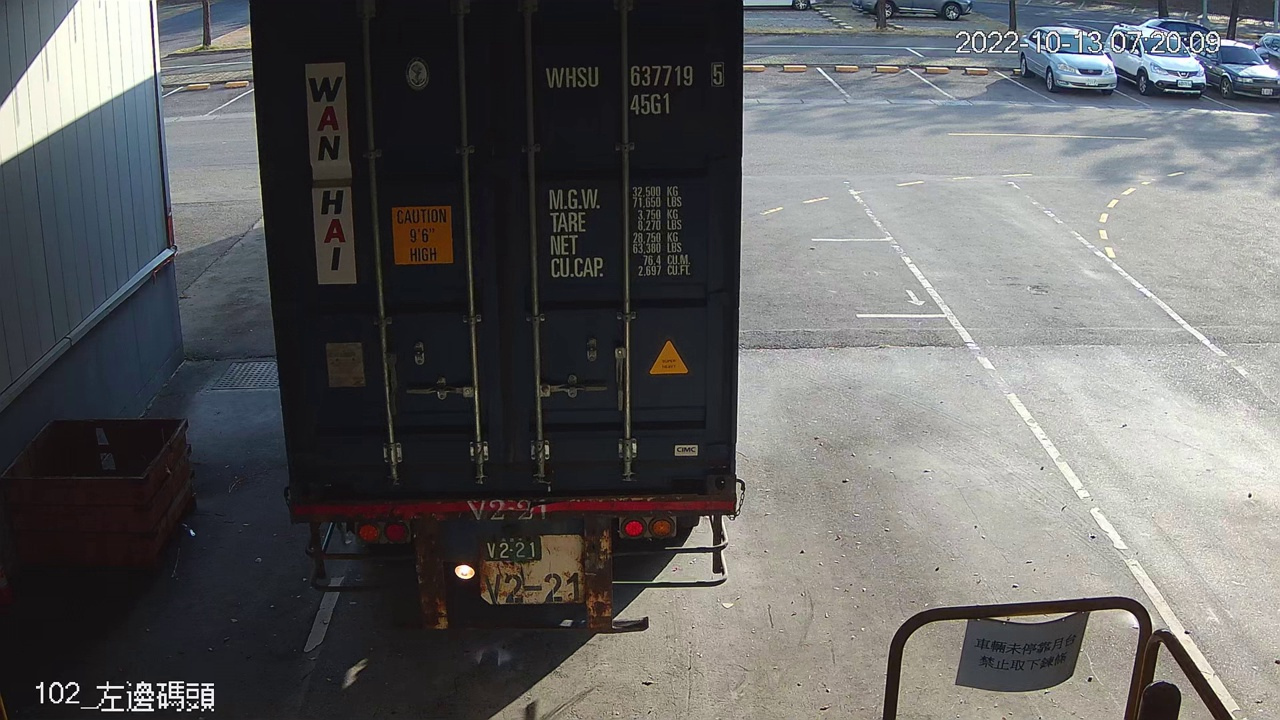container: (539, 52, 734, 121)
